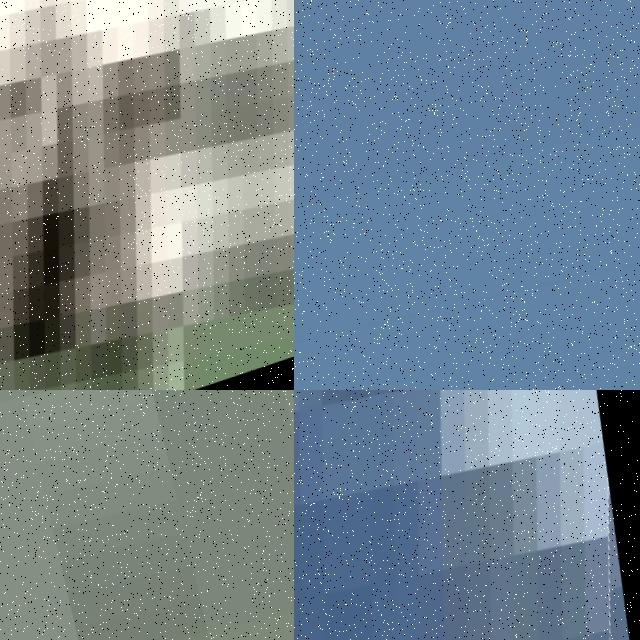0: (0, 0, 294, 390)
drone: (294, 390, 640, 640)
